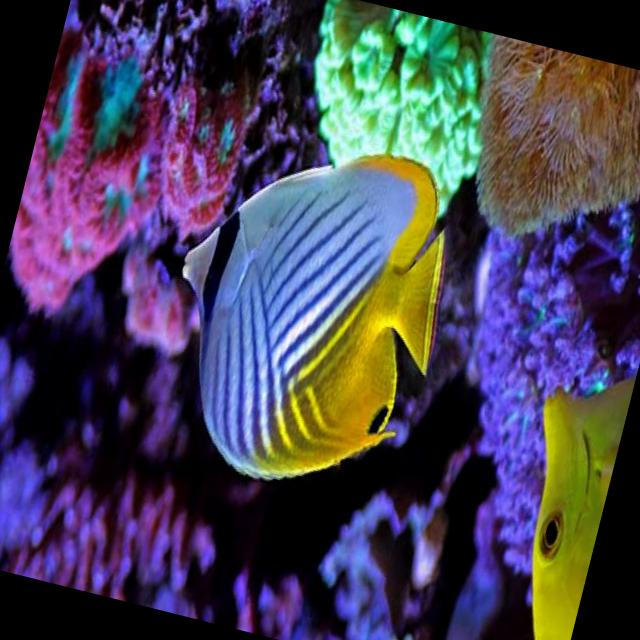ButterflyFish: (136, 110, 477, 507)
